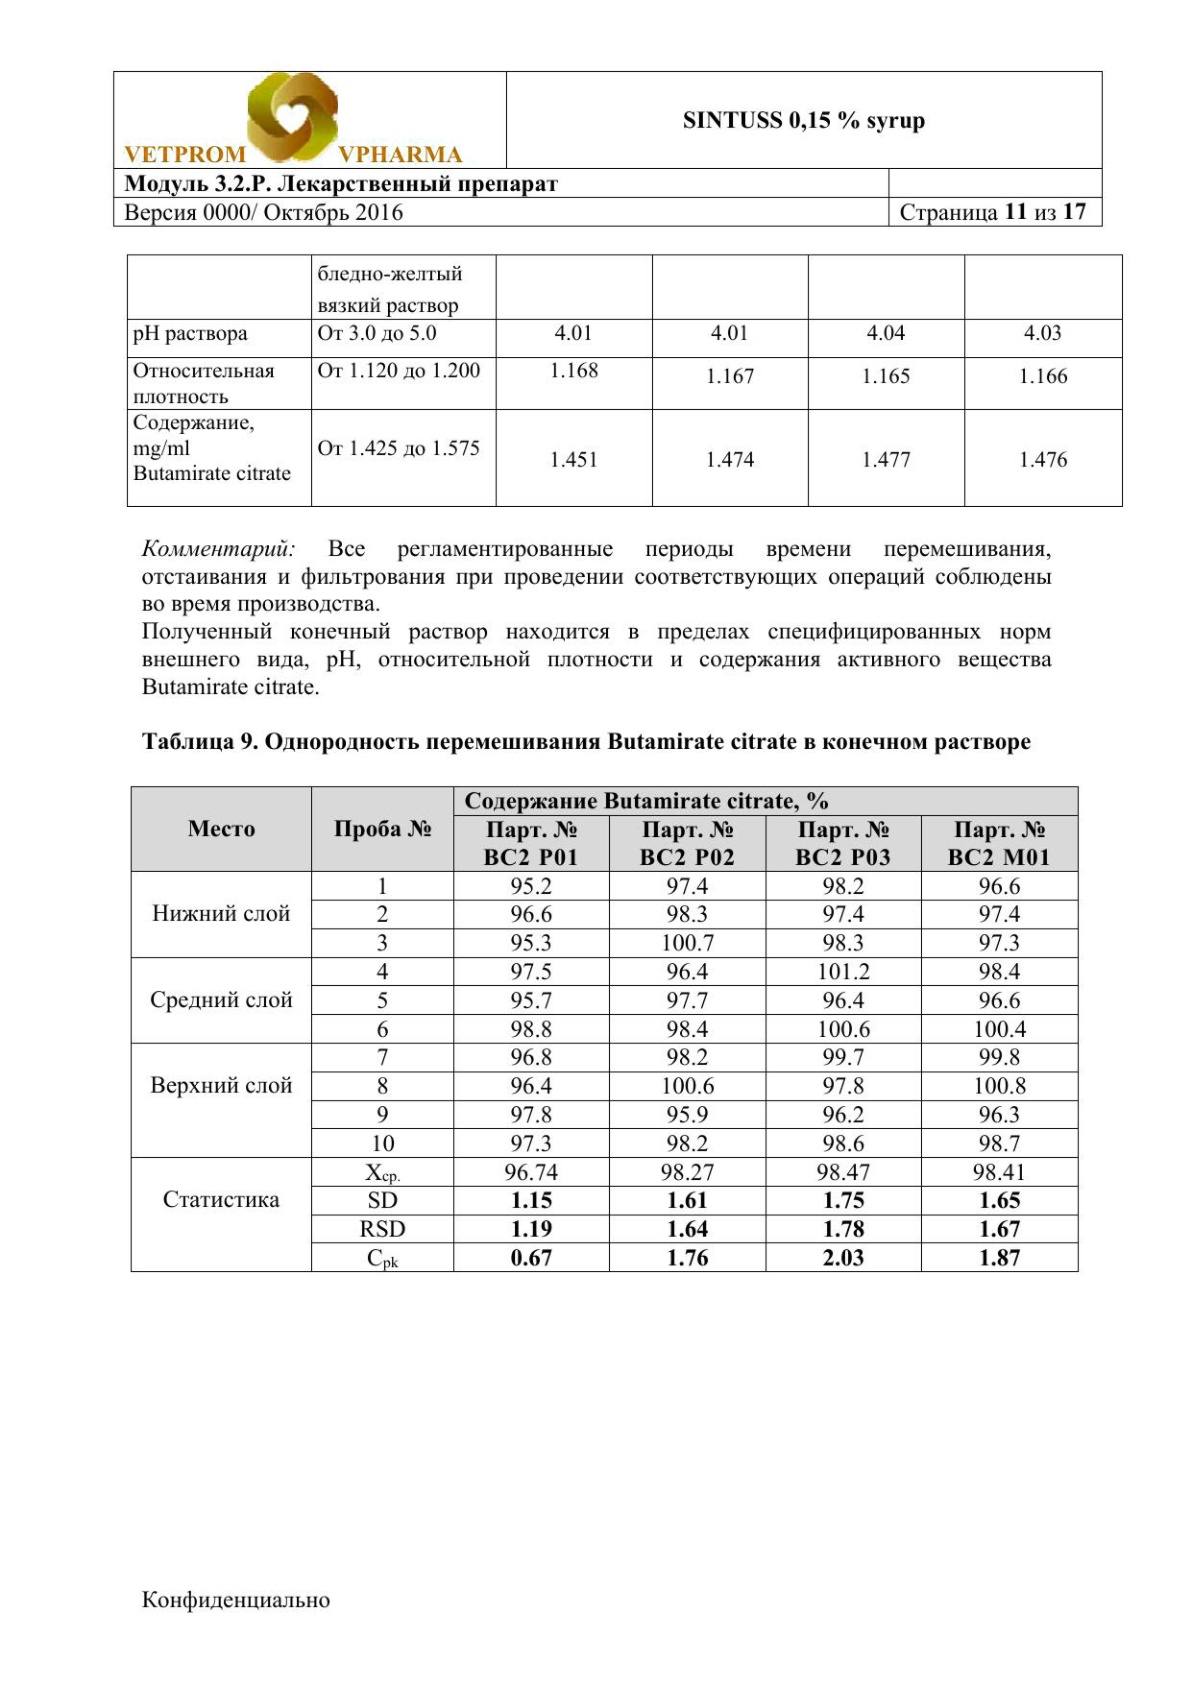full_lined: (126, 253, 1124, 508)
merged_cells: (130, 786, 1078, 1273), (112, 68, 1103, 228)
